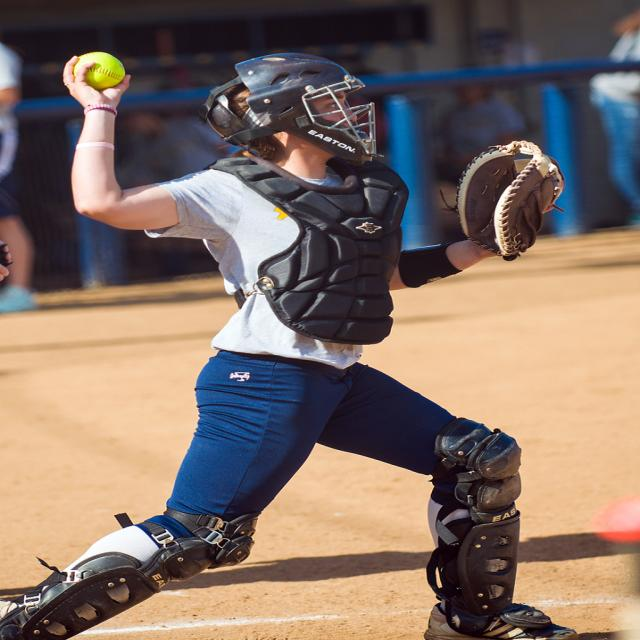Tennis ball: (76, 52, 128, 88)
